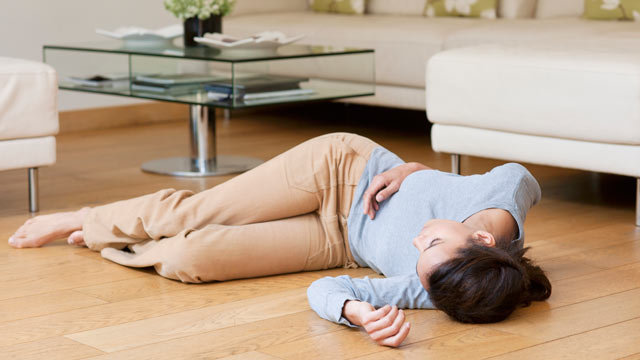collapsed: (5, 112, 632, 360)
